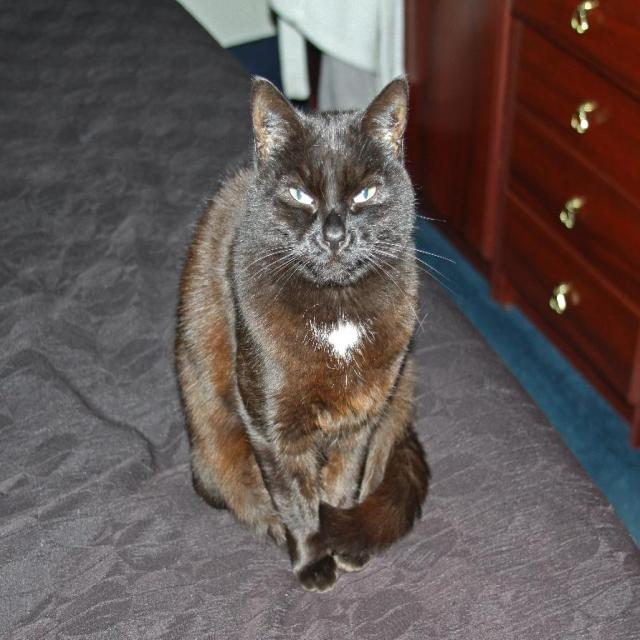Cat: (170, 74, 466, 591)
